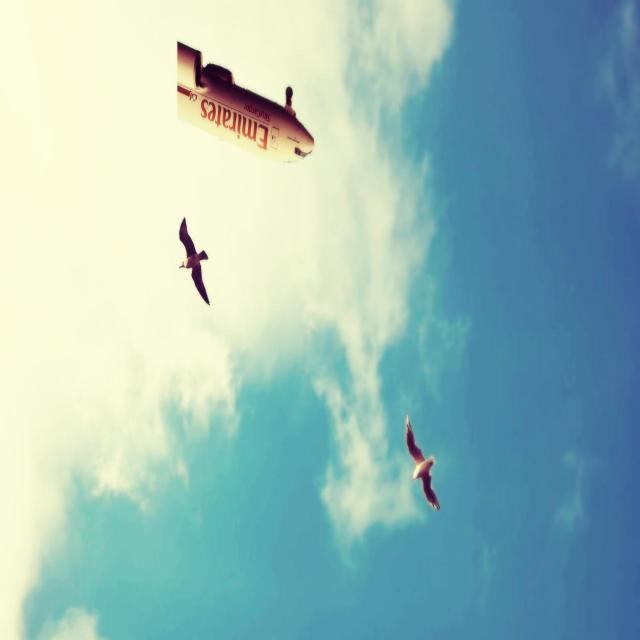airplane: (176, 40, 315, 163)
